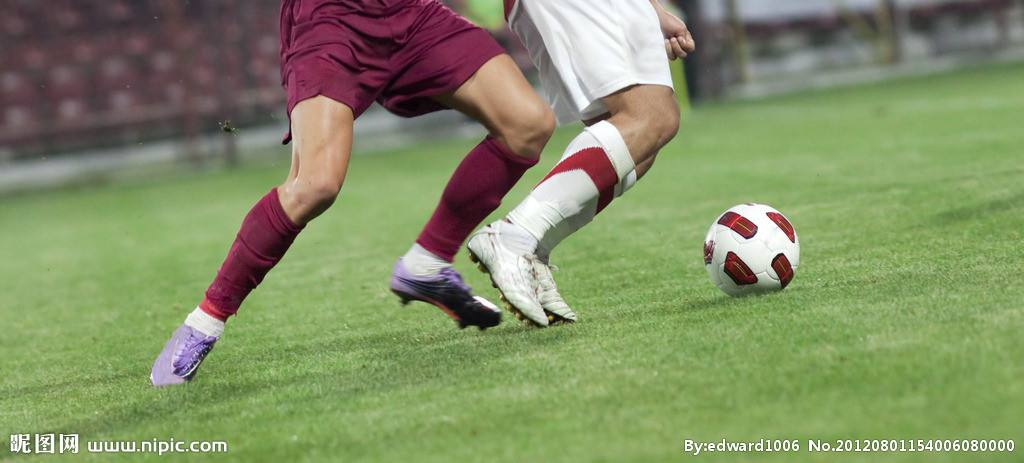football: (703, 201, 801, 305)
